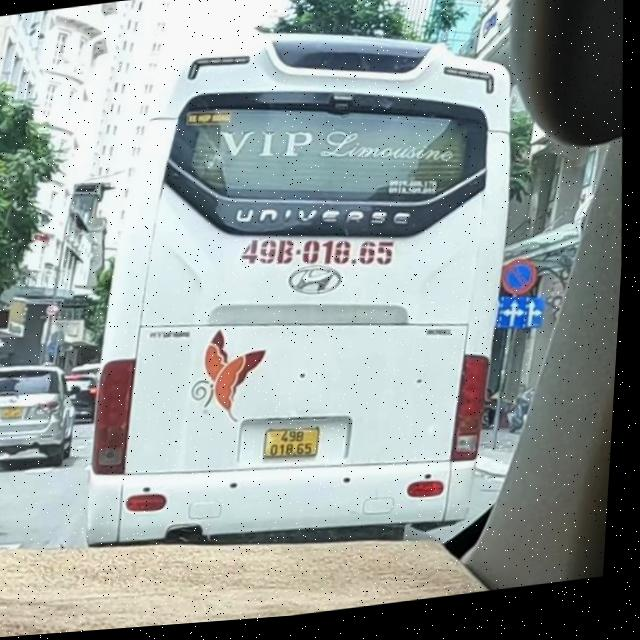car: (63, 0, 534, 578), (0, 346, 83, 486)
plate: (254, 412, 335, 471), (0, 399, 30, 430)
